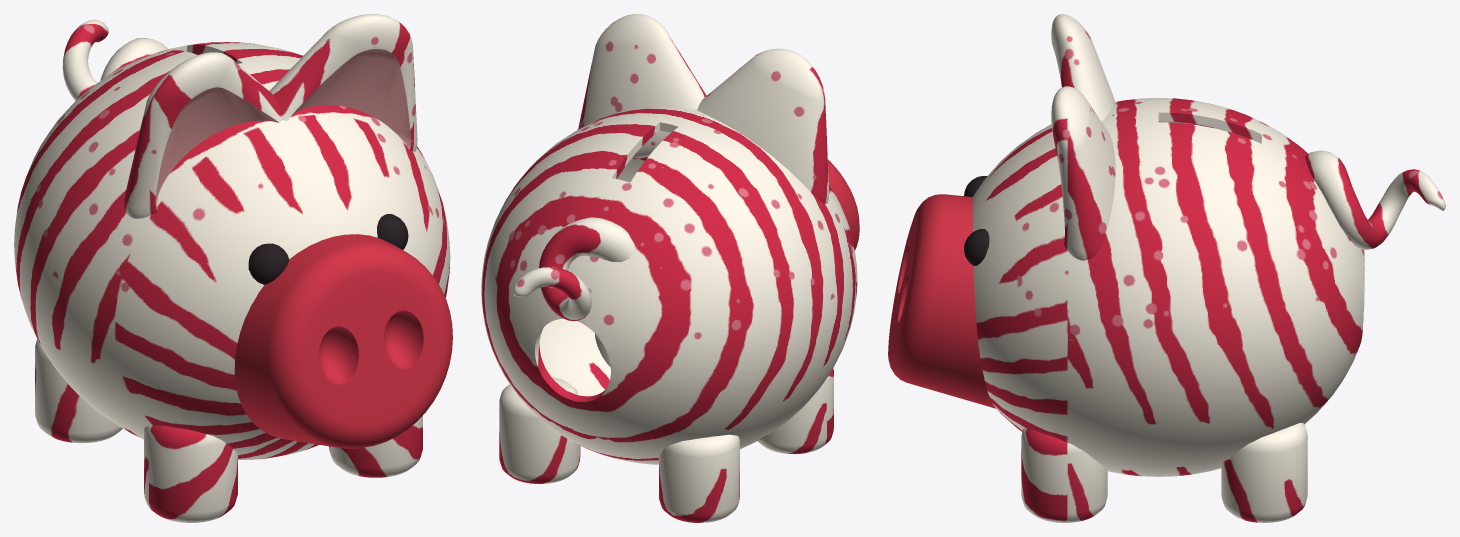
File: peppermint-complete.fbx
The picture shows the model from 3 angles, left to right: view 1: azimuth 30°, elevation 25°; view 2: azimuth 150°, elevation 25°; view 3: azimuth 270°, elevation 25°; orthographic projection. The views are drawn at different scales.
Parts seen in each view (by area): view 1: Body, Snout, Ears, Legs, Tail, Eyes; view 2: Body, Ears, Legs, Tail, Snout; view 3: Body, Snout, Legs, Ears, Tail, Eyes.
Boxes of the visible parts, <box> form: Body: <box>14,42,450,459</box>; Snout: <box>234,234,452,448</box>; Ears: <box>124,14,417,218</box>; Legs: <box>35,339,422,522</box>; Tail: <box>62,19,167,100</box>; Eyes: <box>248,214,408,284</box>; Body: <box>481,107,857,464</box>; Ears: <box>578,14,829,203</box>; Legs: <box>499,334,833,522</box>; Tail: <box>513,217,634,321</box>; Snout: <box>828,159,859,250</box>; Body: <box>972,97,1364,476</box>; Snout: <box>888,194,996,408</box>; Legs: <box>1021,423,1307,522</box>; Ears: <box>1051,14,1115,260</box>; Tail: <box>1305,150,1445,249</box>; Eyes: <box>964,176,989,265</box>.
Size of the model in its own units: 1200 by 1397 by 1708.
3 materials, 2 textured.
